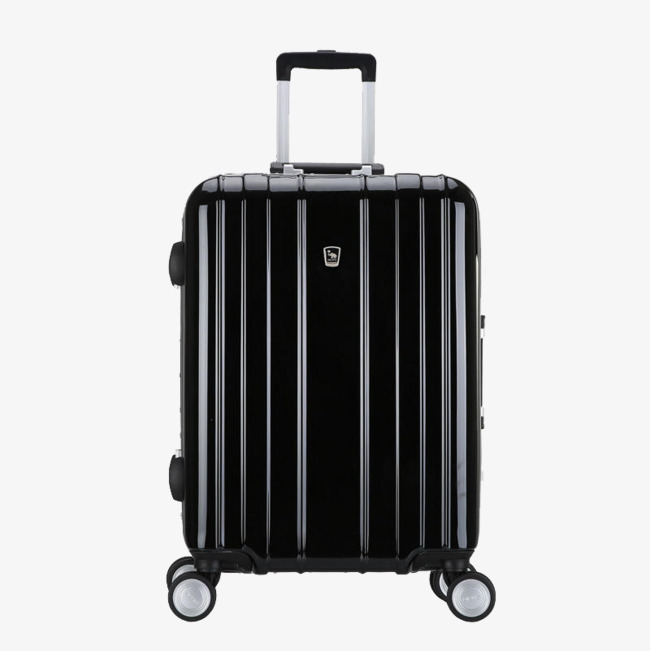box: (182, 173, 481, 572)
handle: (268, 161, 385, 175)
wheel: (446, 572, 496, 622), (168, 570, 216, 622), (430, 562, 478, 601), (166, 557, 221, 590)
